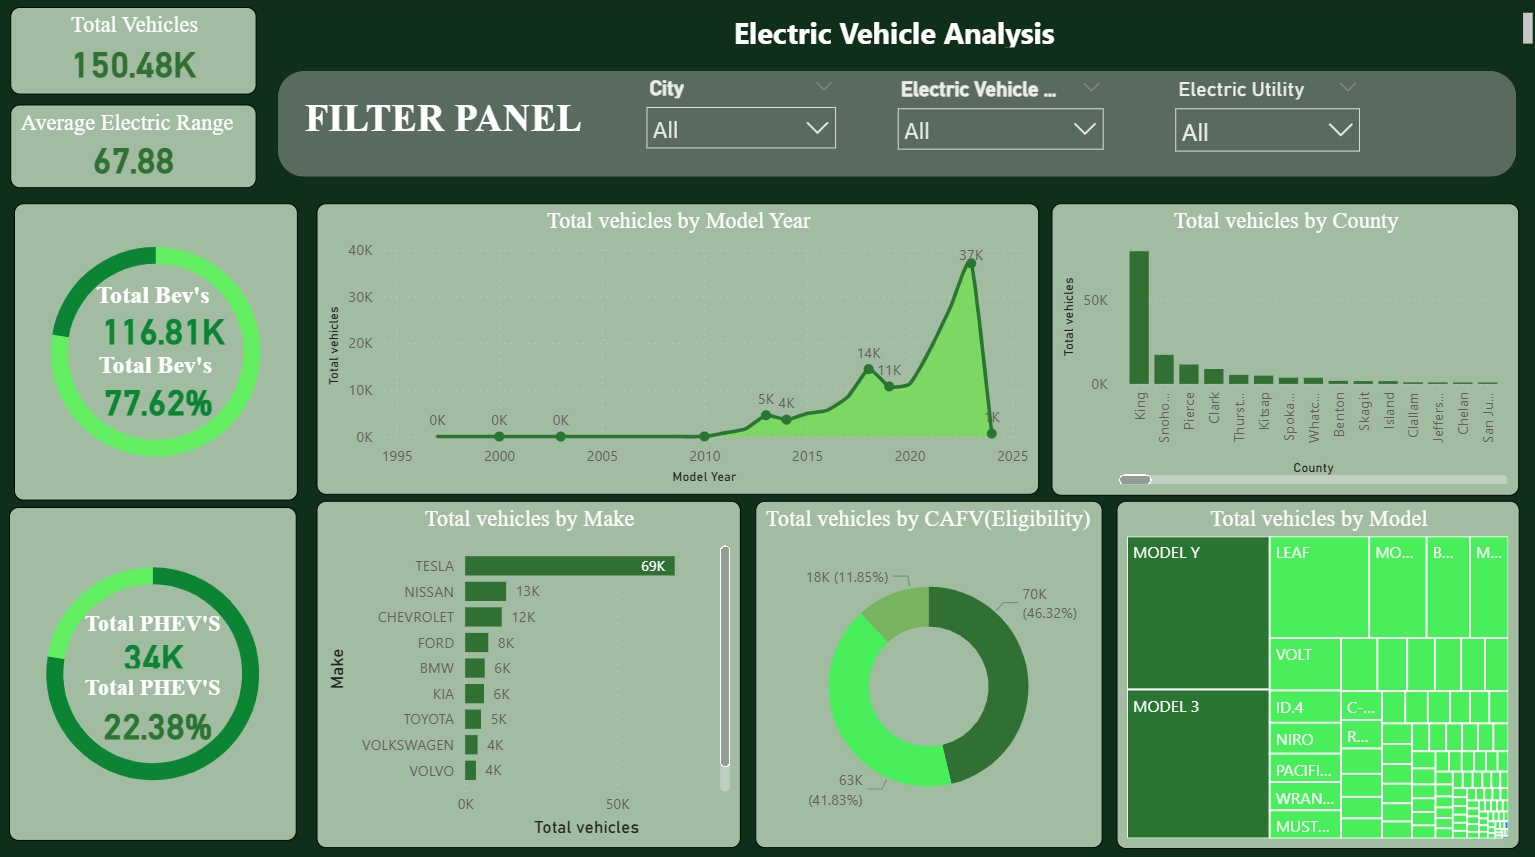

Layout of this report page (visuals, bound fields, positions):
{"tool":"powerbi","page":{"name":"Page 1","canvas":[1280,720],"ordinal":0},"visuals":[{"type":"card","title":"Total Vehicles","fields":{"Values":["Electric_Vehicle_Population_Data.Total vehicles"]},"box":[9.6,8.2,205.2,72.5],"z":0},{"type":"card","title":"Average Electric Range","fields":{"Values":["Electric_Vehicle_Population_Data.avg range"]},"box":[9.6,88.9,205.2,69.8],"z":1000},{"type":"donutChart","fields":{"Category":["Electric_Vehicle_Population_Data.Electric Vehicle Type"],"Y":["Electric_Vehicle_Population_Data.Total vehicles"]},"box":[12.5,171.5,235.9,247.3],"z":2000},{"type":"card","title":"Total Bev''s","fields":{"Values":["Electric_Vehicle_Population_Data.Total Bevs"]},"box":[75.9,237,121.6,58.2],"z":3000},{"type":"card","title":"Total Bev''s","fields":{"Values":["Electric_Vehicle_Population_Data.BEV%"]},"box":[77.9,295.2,109.1,60.3],"z":4000},{"type":"donutChart","fields":{"Category":["Electric_Vehicle_Population_Data.Electric Vehicle Type"],"Y":["Electric_Vehicle_Population_Data.Total vehicles"]},"box":[8.2,424,239.4,277.7],"z":5000},{"type":"card","title":"Total PHEV''S","fields":{"Values":["Electric_Vehicle_Population_Data.Total PHEVs"]},"box":[67,510.2,124.5,53.3],"z":6000},{"type":"card","title":"Total PHEV''S","fields":{"Values":["Electric_Vehicle_Population_Data.PHEV%"]},"box":[67,563.5,131.3,62.9],"z":7000},{"type":"lineChart","fields":{"Y":["Electric_Vehicle_Population_Data.Total vehicles"],"Category":["Electric_Vehicle_Population_Data.Model Year"]},"box":[264,171.5,600.7,242.1],"z":8000},{"type":"barChart","fields":{"Category":["Electric_Vehicle_Population_Data.Make"],"Y":["Electric_Vehicle_Population_Data.Total vehicles"]},"box":[264,418.6,352.9,288.6],"z":9000},{"type":"donutChart","fields":{"Category":["Electric_Vehicle_Population_Data.Clean Alternative Fuel Vehicle (CAFV) Eligibility"],"Y":["Electric_Vehicle_Population_Data.Total vehicles"]},"box":[629.2,418.6,288.6,288.6],"z":10000},{"type":"treemap","fields":{"Group":["Electric_Vehicle_Population_Data.Model"],"Values":["Electric_Vehicle_Population_Data.Total vehicles"]},"box":[928.7,418.6,335.1,290],"z":11000},{"type":"slicer","fields":{"Values":["Electric_Vehicle_Population_Data.City"]},"box":[528,60.2,177.8,76.6],"z":12000},{"type":"slicer","fields":{"Values":["Electric_Vehicle_Population_Data.Electric Utility"]},"box":[967,61.6,173.7,75.2],"z":13000},{"type":"slicer","fields":{"Values":["Electric_Vehicle_Population_Data.Electric Vehicle Type"]},"box":[737.3,61.6,191.5,75.2],"z":14000},{"type":"shape","box":[231.8,61.3,1029.9,88.3],"z":15000},{"type":"textbox","box":[248.9,76.6,254.4,47.9],"z":16000},{"type":"columnChart","fields":{"Category":["Electric_Vehicle_Population_Data.County"],"Y":["Electric_Vehicle_Population_Data.Total vehicles"]},"box":[875.1,171.5,388.7,243.2],"z":17000},{"type":"textbox","box":[215.1,8.3,1065.2,38.5],"z":18000}]}

Visuals, with their boxes in screenshot pixels (x1, y1, x2, y2), scaled from the page's 1280x720 canvas onto the 1535x857 screenshot:
"Total Vehicles" card: x1=12, y1=10, x2=258, y2=96
"Average Electric Range" card: x1=12, y1=106, x2=258, y2=189
donutChart - Electric_Vehicle_Population_Data.Electric Vehicle Type x Electric_Vehicle_Population_Data.Total vehicles: x1=15, y1=204, x2=298, y2=498
"Total Bev''s" card: x1=91, y1=282, x2=237, y2=351
"Total Bev''s" card: x1=93, y1=351, x2=224, y2=423
donutChart - Electric_Vehicle_Population_Data.Electric Vehicle Type x Electric_Vehicle_Population_Data.Total vehicles: x1=10, y1=505, x2=297, y2=835
"Total PHEV''S" card: x1=80, y1=607, x2=230, y2=671
"Total PHEV''S" card: x1=80, y1=671, x2=238, y2=746
lineChart - Electric_Vehicle_Population_Data.Total vehicles x Electric_Vehicle_Population_Data.Model Year: x1=317, y1=204, x2=1037, y2=492
barChart - Electric_Vehicle_Population_Data.Make x Electric_Vehicle_Population_Data.Total vehicles: x1=317, y1=498, x2=740, y2=842
donutChart - Electric_Vehicle_Population_Data.Clean Alternative Fuel Vehicle (CAFV) Eligibility x Electric_Vehicle_Population_Data.Total vehicles: x1=755, y1=498, x2=1101, y2=842
treemap - Electric_Vehicle_Population_Data.Model x Electric_Vehicle_Population_Data.Total vehicles: x1=1114, y1=498, x2=1516, y2=843
slicer - Electric_Vehicle_Population_Data.City: x1=633, y1=72, x2=846, y2=163
slicer - Electric_Vehicle_Population_Data.Electric Utility: x1=1160, y1=73, x2=1368, y2=163
slicer - Electric_Vehicle_Population_Data.Electric Vehicle Type: x1=884, y1=73, x2=1114, y2=163
shape: x1=278, y1=73, x2=1513, y2=178
textbox: x1=298, y1=91, x2=604, y2=148
columnChart - Electric_Vehicle_Population_Data.County x Electric_Vehicle_Population_Data.Total vehicles: x1=1049, y1=204, x2=1516, y2=494
textbox: x1=258, y1=10, x2=1534, y2=56
